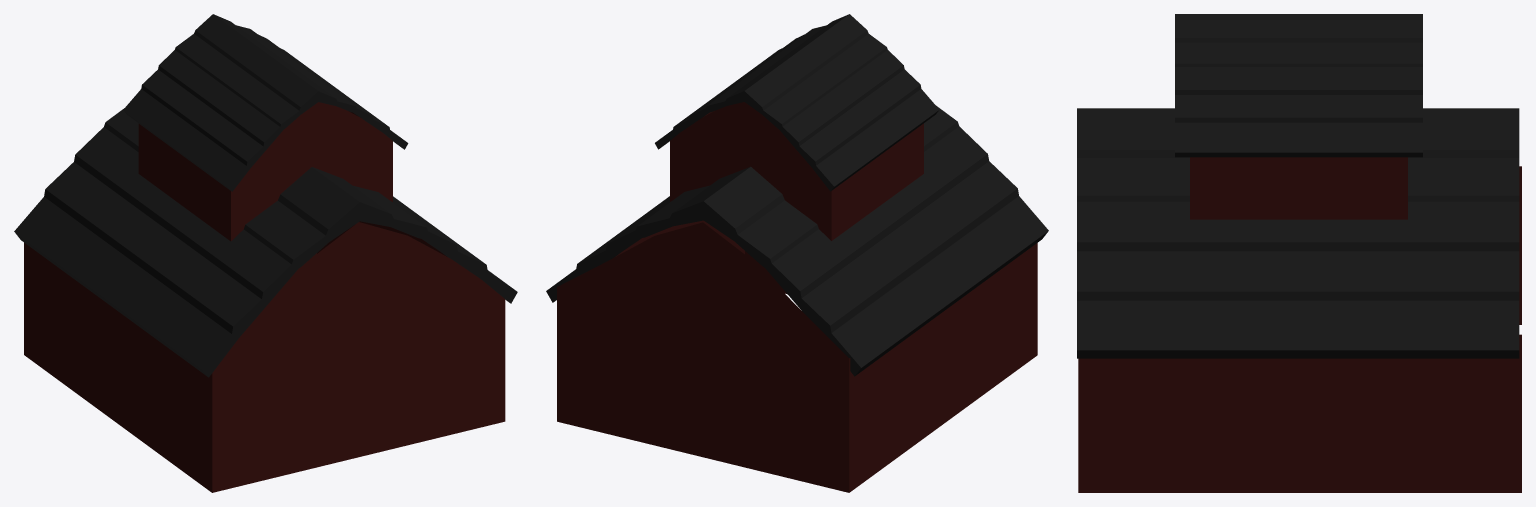
The model's file is BigBarn.FBX.
3 views of the same model, side by side, from view 1: azimuth 30°, elevation 25°; view 2: azimuth 150°, elevation 25°; view 3: azimuth 270°, elevation 25° (orthographic). The views are drawn at different scales.
Parts seen in each view (by area): view 1: Plane003; view 2: Plane003; view 3: Plane003.
Part boxes in pixels (left/top/right/bottom): Plane003: left=14, top=14, right=517, bottom=492; Plane003: left=546, top=14, right=1048, bottom=492; Plane003: left=1077, top=14, right=1521, bottom=492.
Size of the model in its own units: 7.73 by 7.85 by 8.01.
